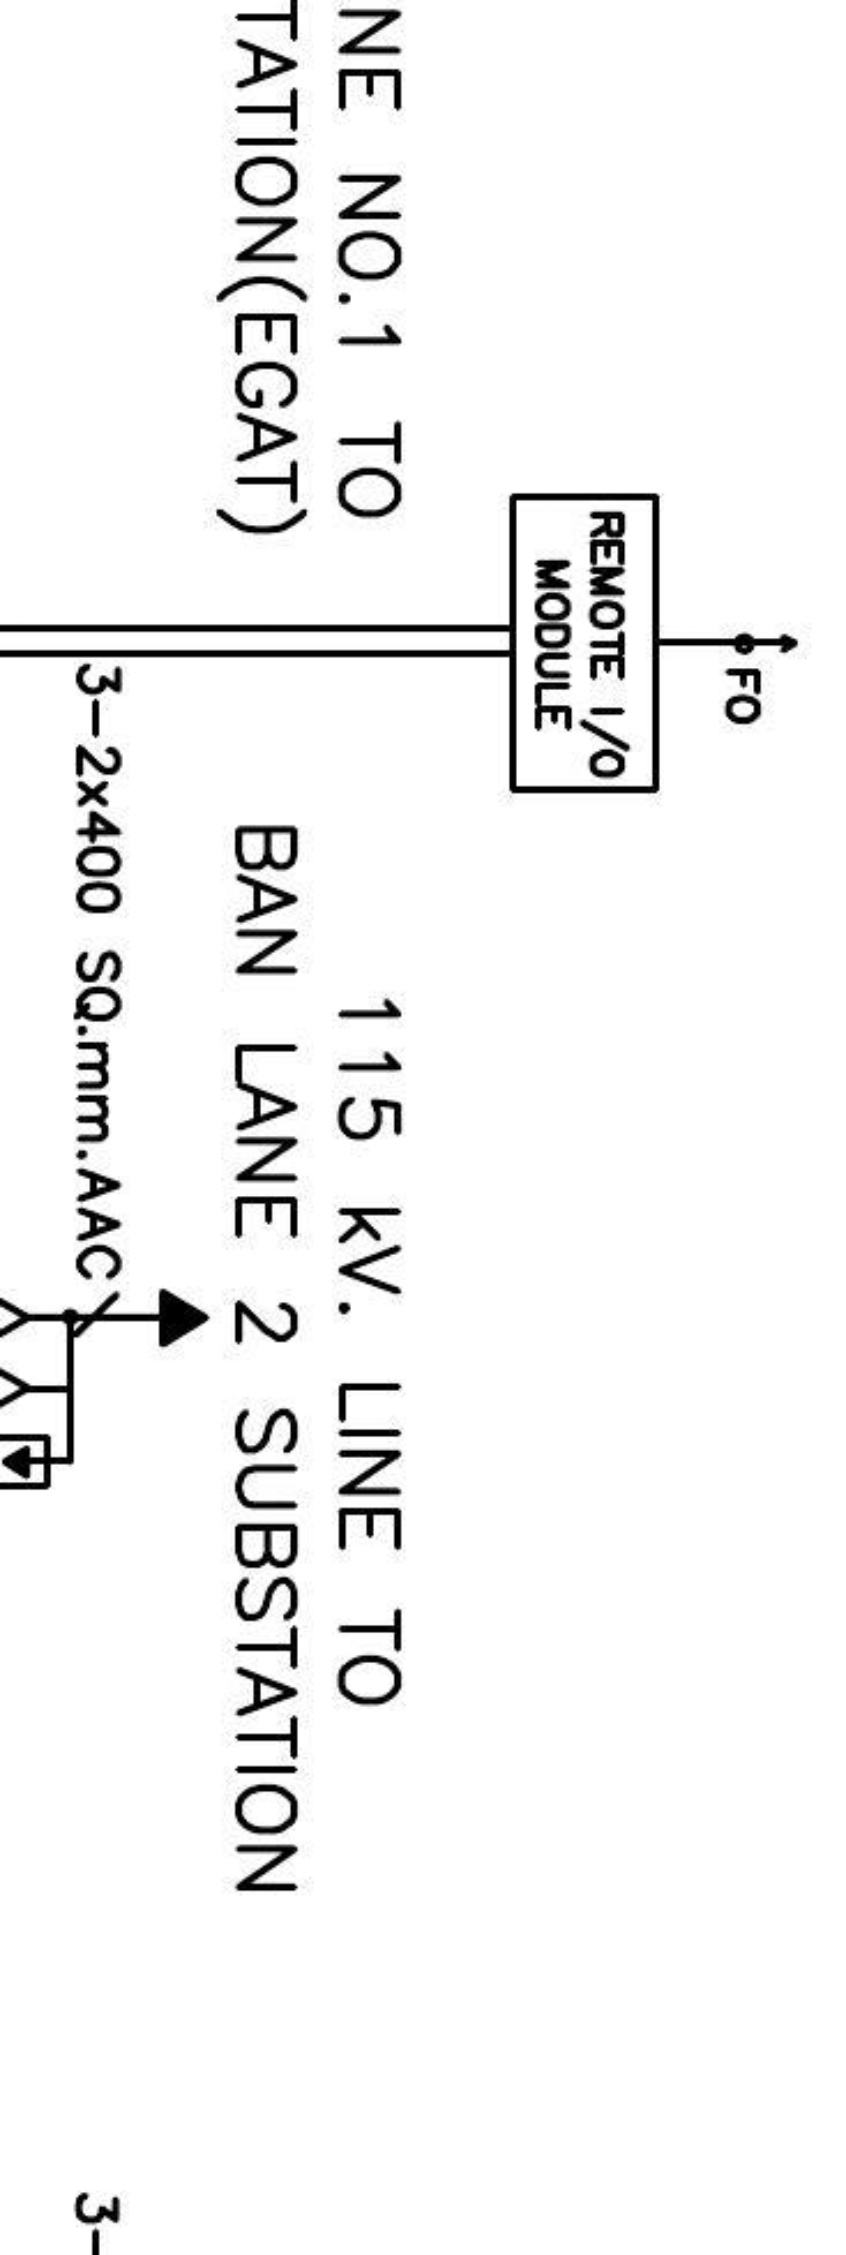remote_io_module: (508, 492, 659, 794)
